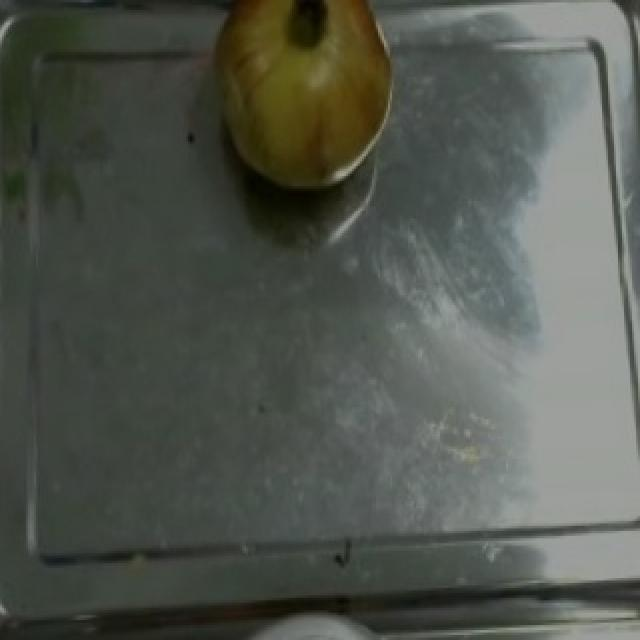fruit: (178, 0, 414, 211)
